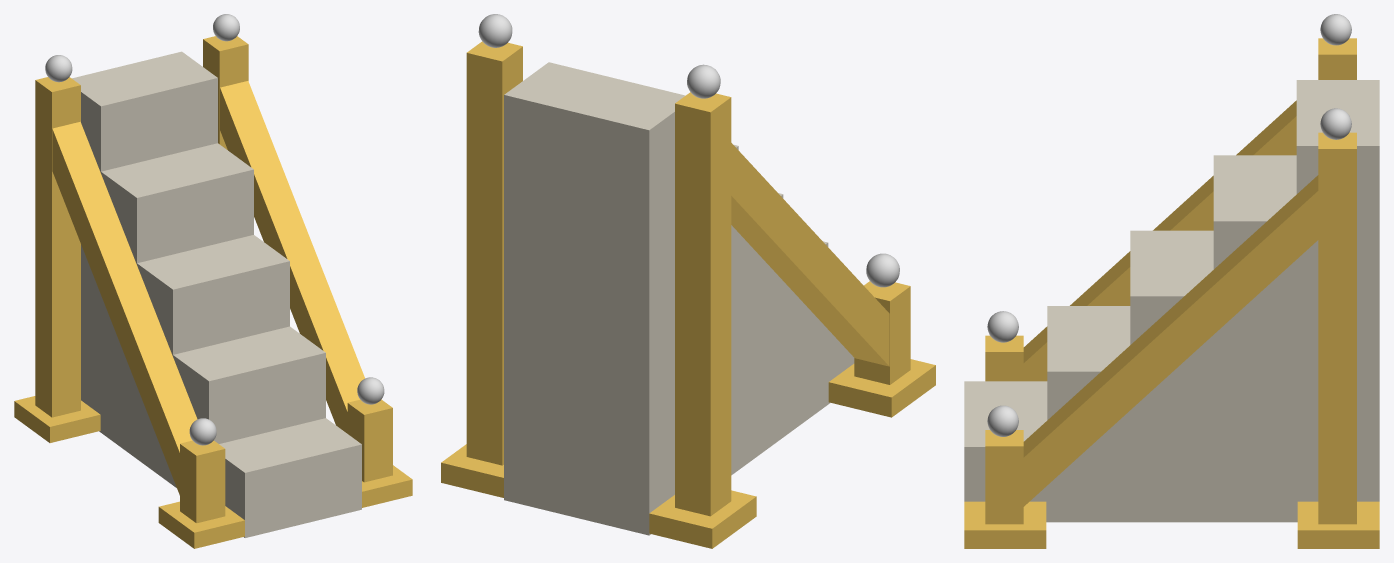
Rendered from Stairs.fbx.
The picture shows the model from 3 angles, left to right: view 1: azimuth 30°, elevation 25°; view 2: azimuth 150°, elevation 25°; view 3: azimuth 270°, elevation 25°; orthographic projection. The views are drawn at different scales.
Visible parts, largest first — view 1: Stairs, Pillar_Left, Pillar_Right; view 2: Stairs, Pillar_Left, Pillar_Right; view 3: Stairs, Pillar_Right, Pillar_Left.
Part boxes in pixels (bbox=[...]): Stairs: bbox=[72, 51, 361, 537]; Pillar_Left: bbox=[14, 55, 244, 548]; Pillar_Right: bbox=[203, 14, 412, 507]; Stairs: bbox=[504, 62, 854, 535]; Pillar_Left: bbox=[649, 64, 935, 548]; Pillar_Right: bbox=[441, 14, 522, 497]; Stairs: bbox=[964, 80, 1379, 522]; Pillar_Right: bbox=[964, 108, 1379, 548]; Pillar_Left: bbox=[985, 14, 1356, 381].
Bounding box in the file's own units: 560 × 907 × 800.
Materials: 1 (1 with a texture image).
